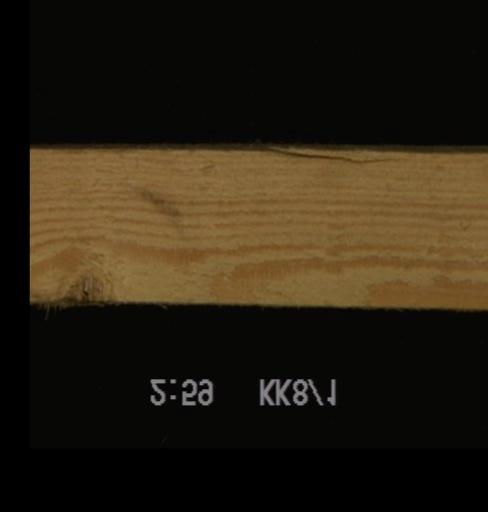edge_knot: (59, 260, 111, 301)
split: (260, 145, 401, 164)
